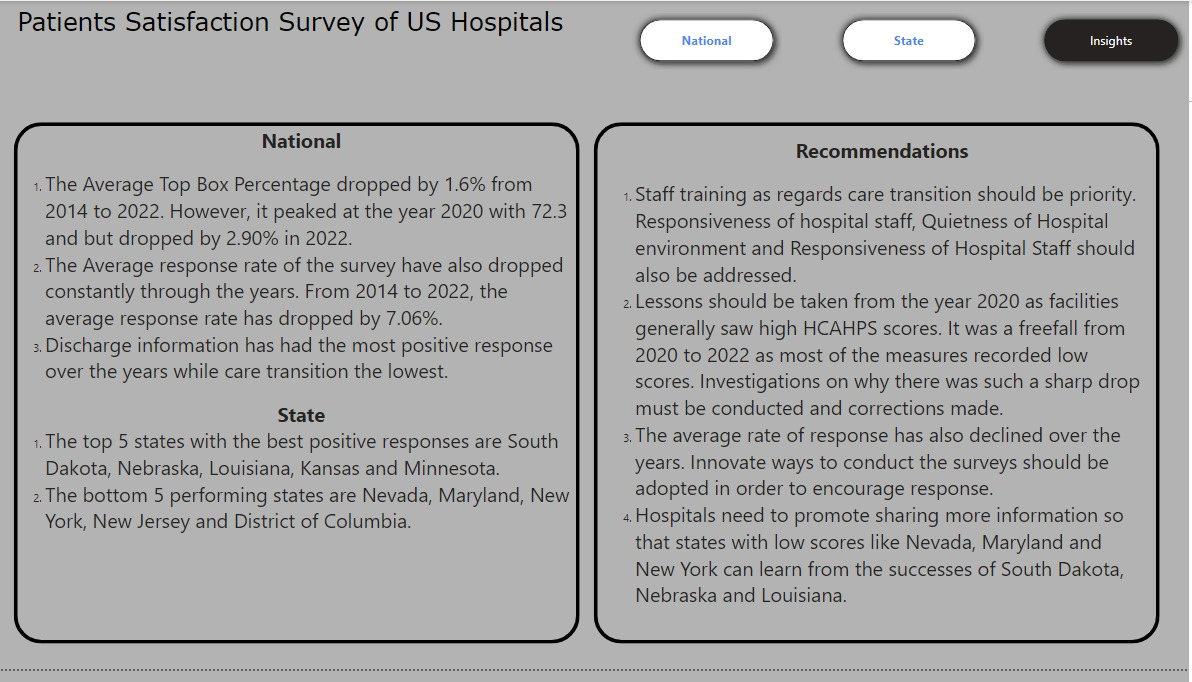

Layout of this report page (visuals, bound fields, positions):
{"tool":"powerbi","page":{"name":"Insights","canvas":[1280,720],"ordinal":2},"visuals":[{"type":"shape","box":[14.8,130.6,610,561.5],"z":0},{"type":"textbox","box":[13.4,0,610,60.5],"z":1000},{"type":"pageNavigator","box":[679.4,10.7,600.6,63.2],"z":2000},{"type":"textbox","box":[25.6,130.6,597.9,561.5],"z":3000},{"type":"shape","box":[639.6,130.6,610,561.5],"z":4000},{"type":"textbox","box":[661.1,141.4,577.7,521.1],"z":5000}]}

Visuals, with their boxes in screenshot pixels (x1, y1, x2, y2), scaled from the page's 1280x720 canvas onto the 1192x682 screenshot:
shape: bbox(14, 124, 582, 656)
textbox: bbox(12, 0, 581, 57)
pageNavigator: bbox(633, 10, 1191, 70)
textbox: bbox(24, 124, 581, 656)
shape: bbox(596, 124, 1164, 656)
textbox: bbox(616, 134, 1154, 628)
